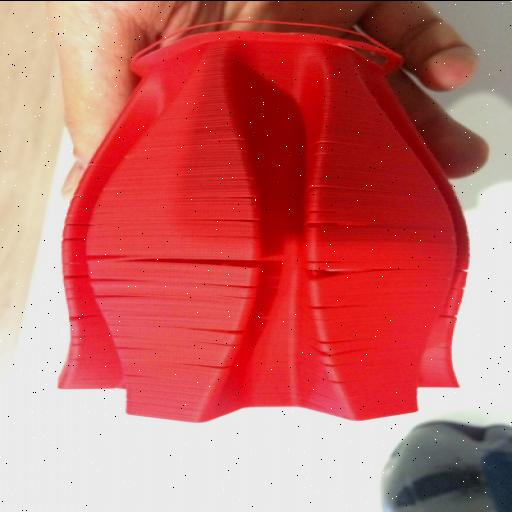cracks: (135, 232, 361, 282), (187, 320, 250, 378), (48, 248, 106, 298), (312, 328, 376, 370)
